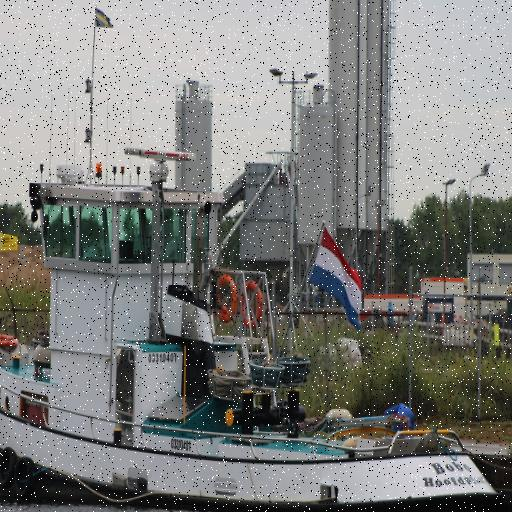tugboat: (1, 142, 510, 512)
